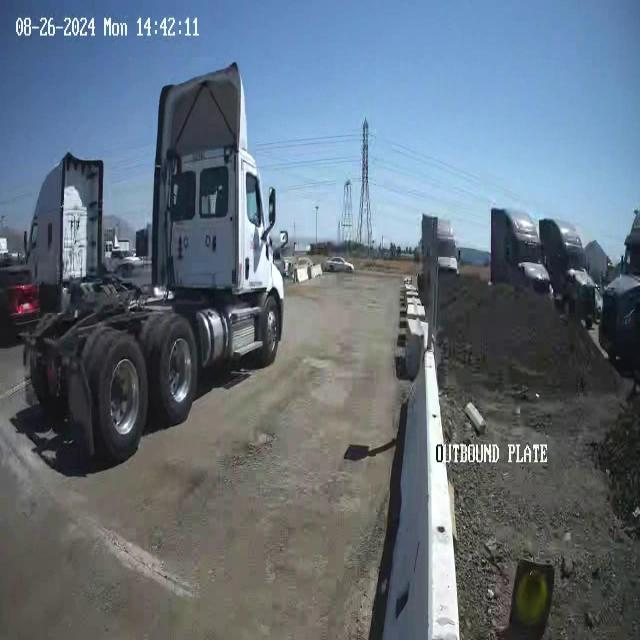BOBTAIL: (24, 59, 287, 465)
